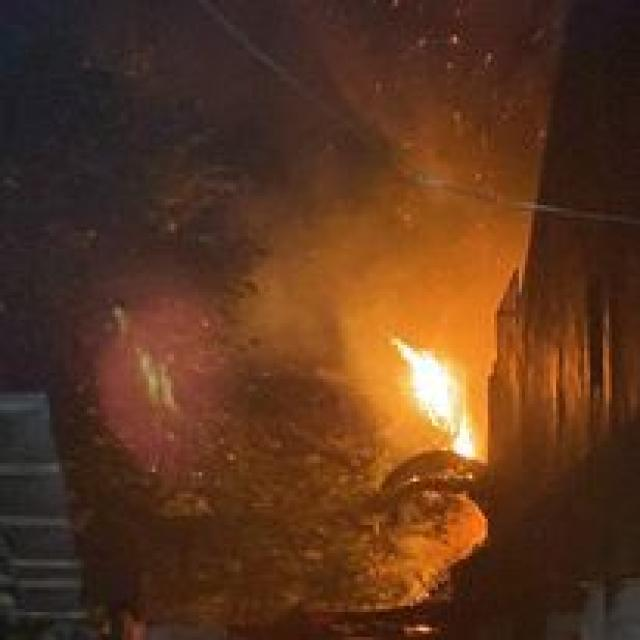Fire: (396, 338, 488, 462)
Smoke: (286, 102, 516, 394)
